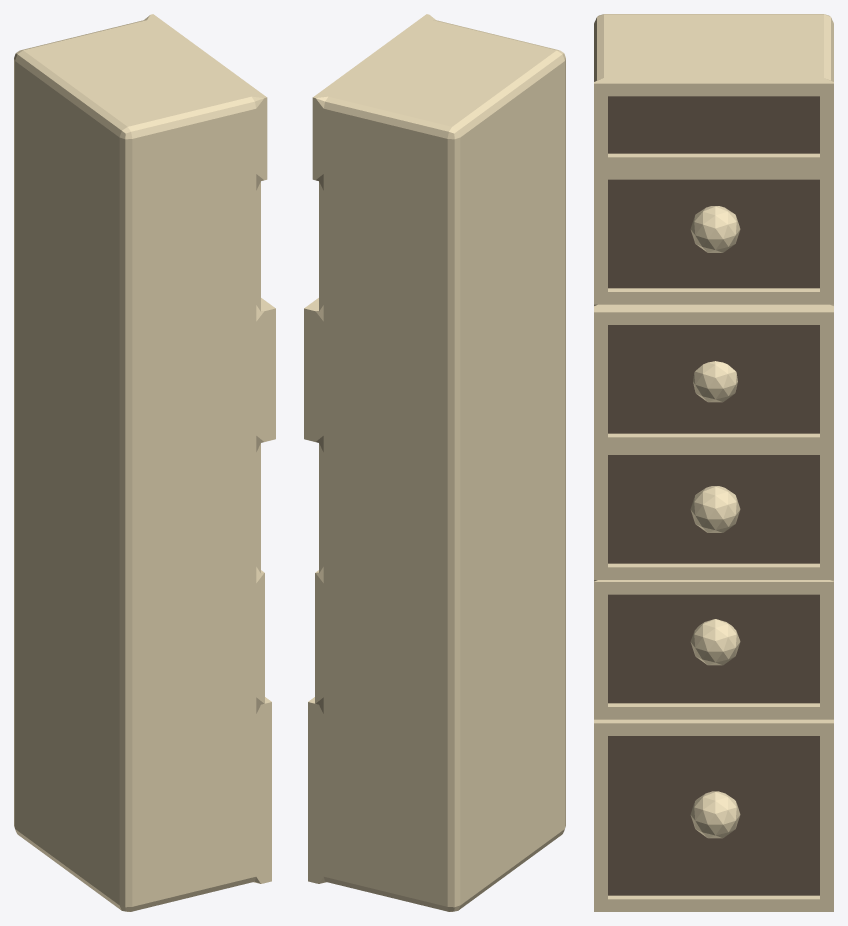
File: Almirah2.fbx
The picture shows the model from 3 angles, left to right: view 1: azimuth 30°, elevation 25°; view 2: azimuth 150°, elevation 25°; view 3: azimuth 270°, elevation 25°; orthographic projection. The views are drawn at different scales.
Parts seen in each view (by area): view 1: Almirah; view 2: Almirah; view 3: Almirah.
Part boxes in pixels (bbox=[...]): Almirah: bbox=[14, 14, 275, 911]; Almirah: bbox=[304, 14, 565, 911]; Almirah: bbox=[594, 14, 833, 911].
Bounding box in the file's own units: 47.73 × 218 × 57.43.
